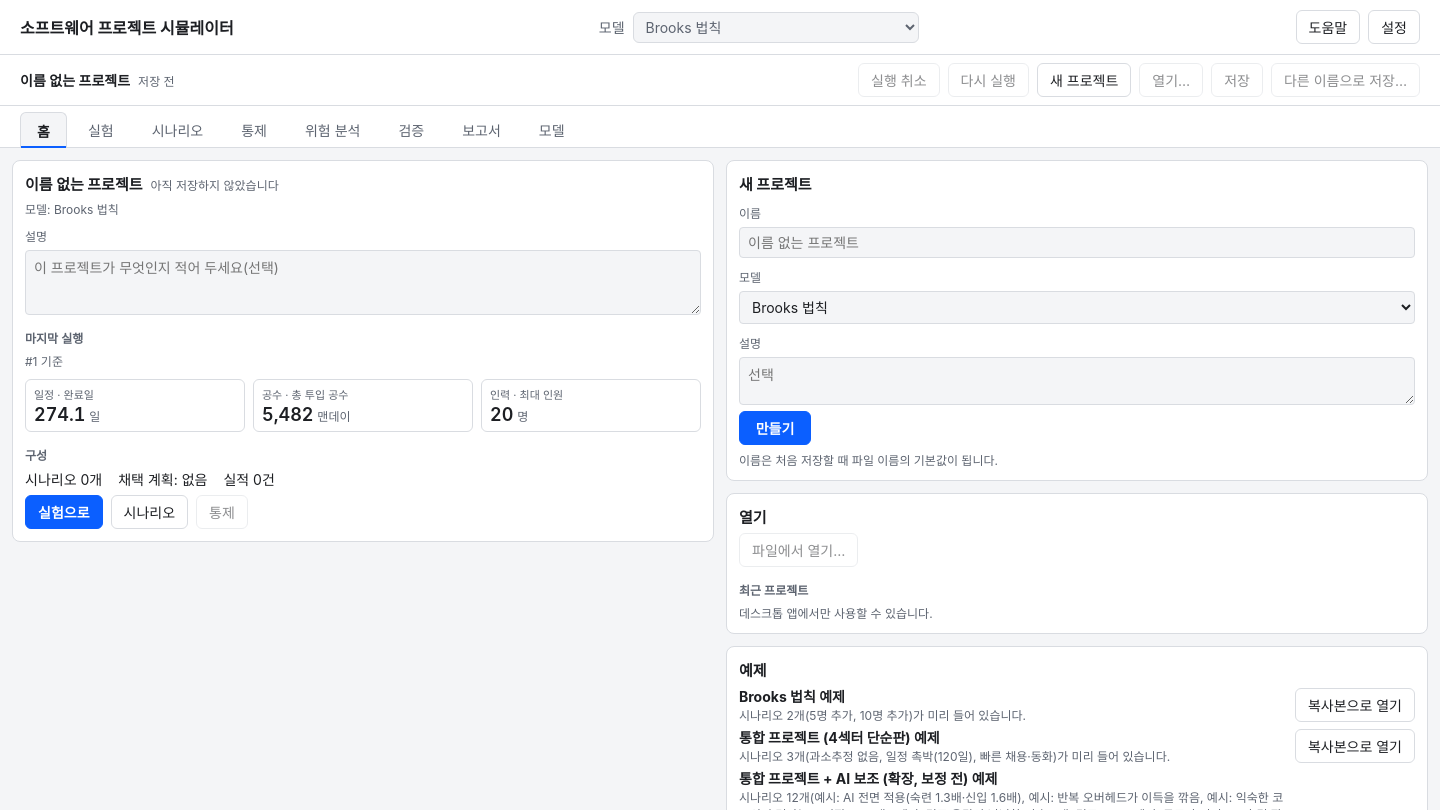
it: 모든 탭을 그려 본다 (화면 스모크) › 실험 탭이 오류 없이 그려진다
Click the tab "실험": [101, 130] box 71,112 -> 131,147
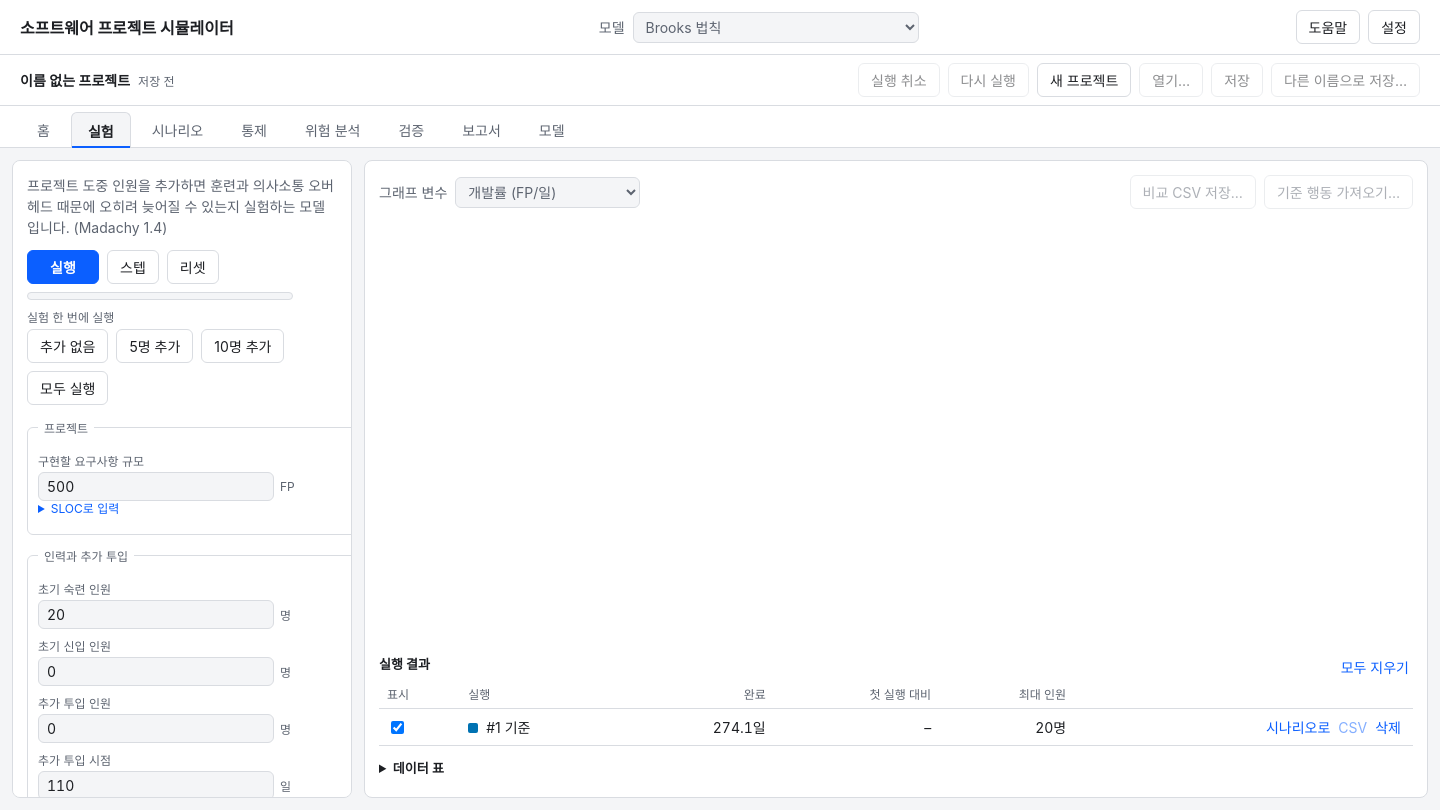
Check: the panel is shown
